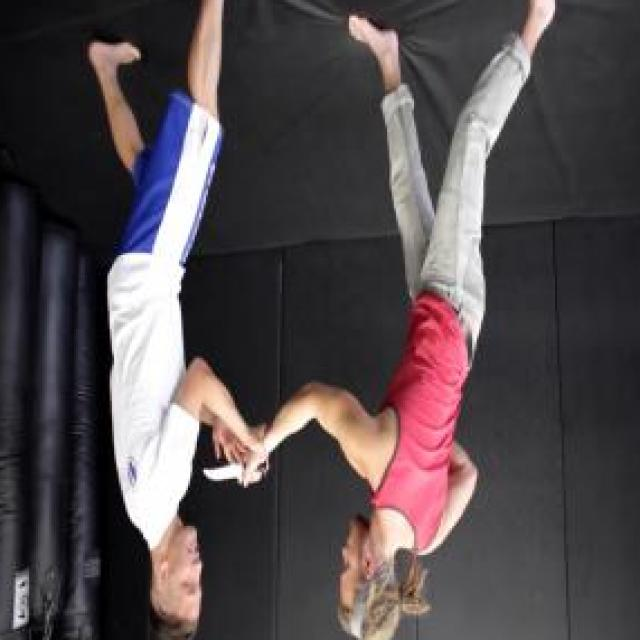knife: (197, 451, 273, 501)
